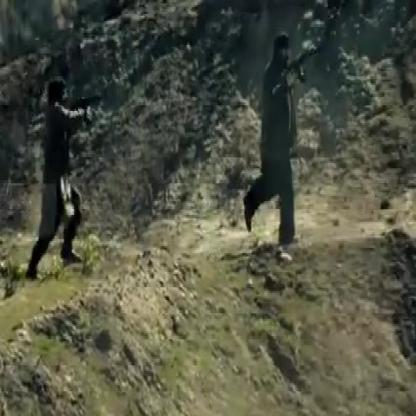Gun: (260, 28, 330, 108), (59, 75, 116, 127)
